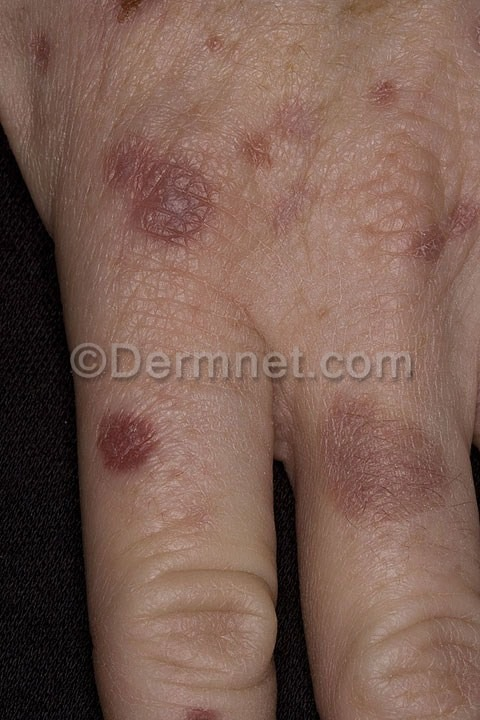Melasma: (1, 0, 480, 264), (101, 398, 480, 534)
